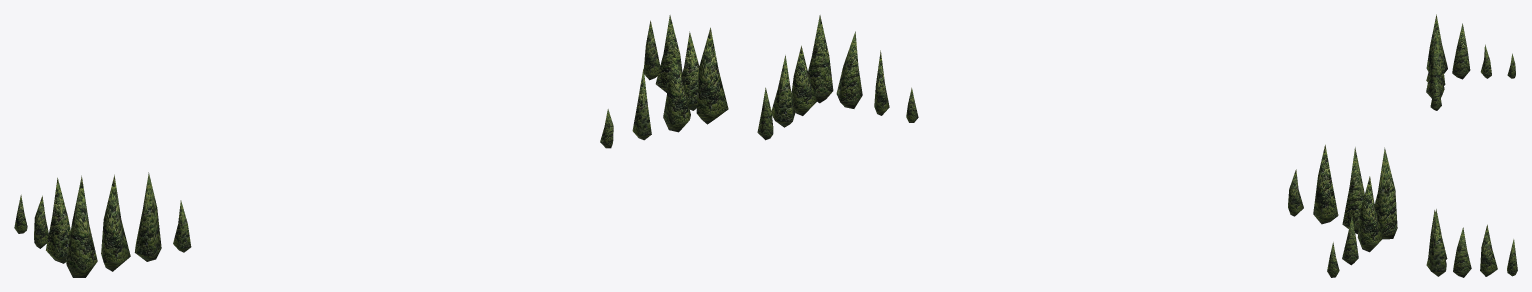
File: hele_gym_trees.dae
3 renders of one model, left to right at view 1: azimuth 30°, elevation 25°; view 2: azimuth 150°, elevation 25°; view 3: azimuth 270°, elevation 25°, orthographic. The views are drawn at different scales.
Parts seen in each view (by area): view 1: trees002; view 2: trees002; view 3: trees002.
Boxes of the visible parts, bbox=[...] form: trees002: bbox=[14, 15, 728, 277]; trees002: bbox=[757, 15, 1397, 277]; trees002: bbox=[1426, 14, 1517, 277].
Bounding box in the file's own units: 27.79 × 4.1 × 5.24.
